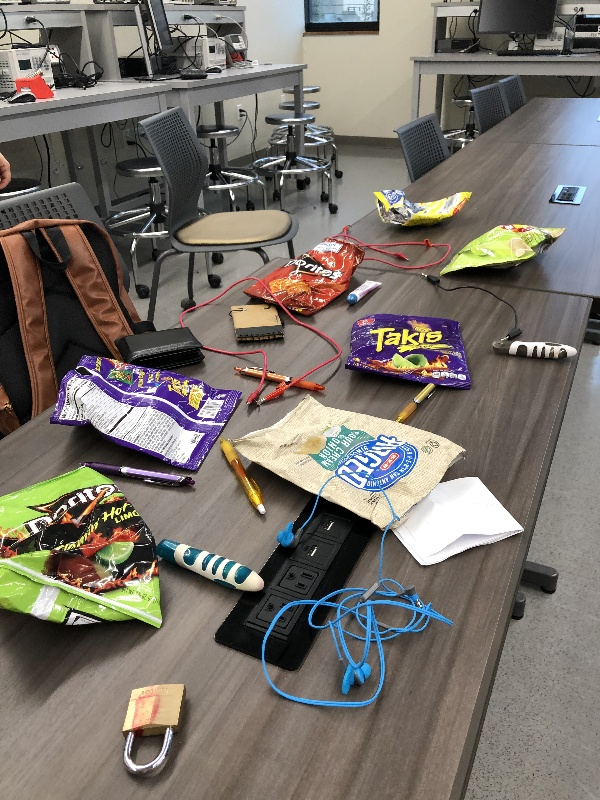bag: (226, 387, 467, 534), (1, 468, 169, 637), (44, 351, 247, 475), (344, 311, 482, 394), (238, 237, 371, 320), (436, 220, 568, 281), (368, 185, 475, 228)
